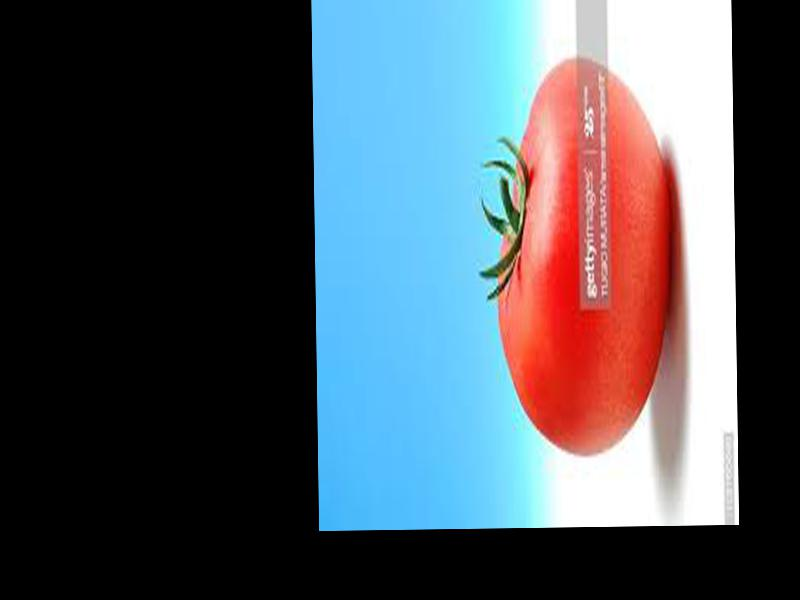Tomato: (495, 54, 671, 454)
